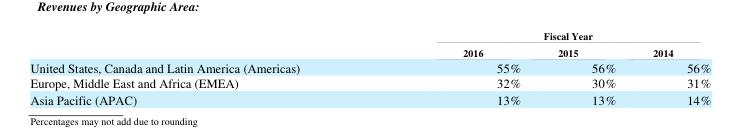table: (29, 28, 710, 107)
table column: (29, 28, 380, 107), (380, 28, 538, 107), (538, 28, 633, 107), (633, 28, 710, 107)
table column header: (29, 28, 710, 58)
table row: (29, 90, 710, 107), (29, 28, 710, 44), (29, 58, 710, 74), (29, 74, 710, 90), (29, 44, 710, 58)
table spanning cell: (380, 28, 710, 44)
